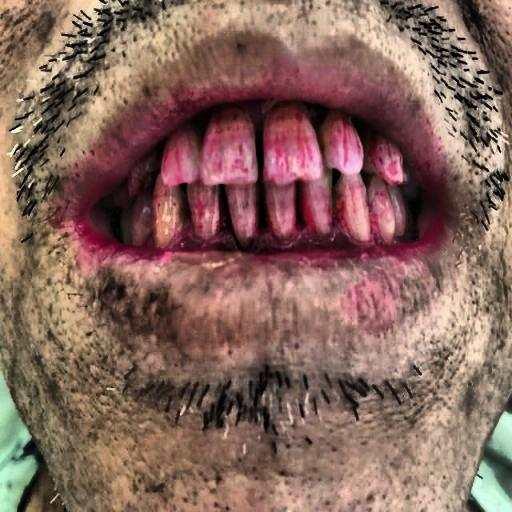Plaque: (130, 106, 424, 251)
